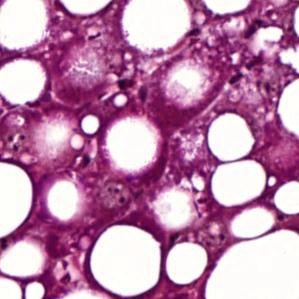steatosis: (90, 219, 169, 298), (207, 113, 259, 163)
